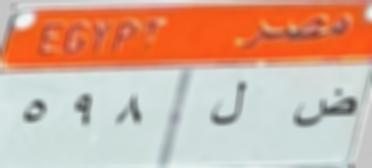5: (20, 92, 50, 130)
8: (113, 91, 150, 133)
9: (69, 86, 96, 135)
daad: (293, 81, 358, 131)
laam: (206, 74, 250, 134)
